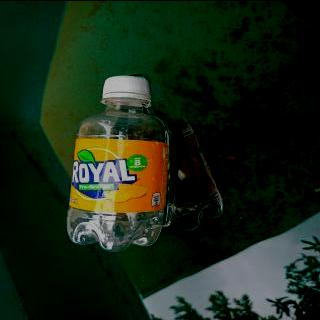bottle: (65, 74, 174, 250)
